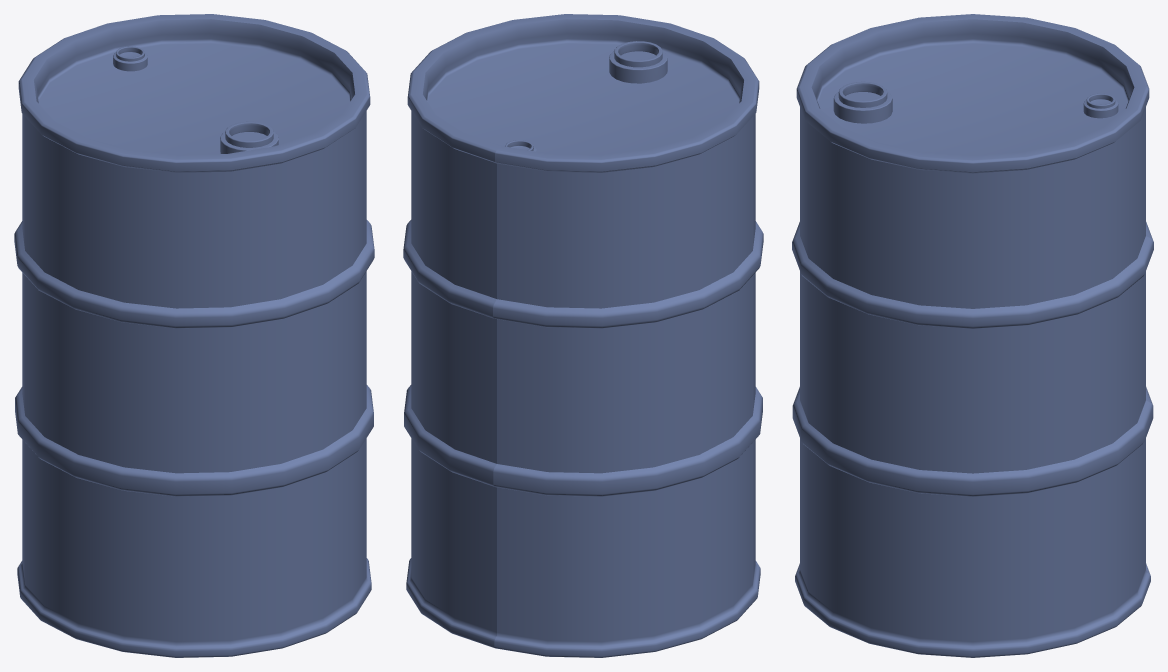
The model's file is Barrel_55_low.fbx.
3 views of the same model, side by side, from view 1: azimuth 30°, elevation 25°; view 2: azimuth 150°, elevation 25°; view 3: azimuth 270°, elevation 25° (orthographic).
Parts seen in each view (by area): view 1: Barrel_55_low; view 2: Barrel_55_low; view 3: Barrel_55_low.
Part boxes in pixels (x1,y1,x2,y2): Barrel_55_low: [14, 14, 374, 657]; Barrel_55_low: [403, 14, 763, 657]; Barrel_55_low: [792, 14, 1153, 657].
Bounding box in the file's own units: 52.04 × 78.8 × 52.04.
